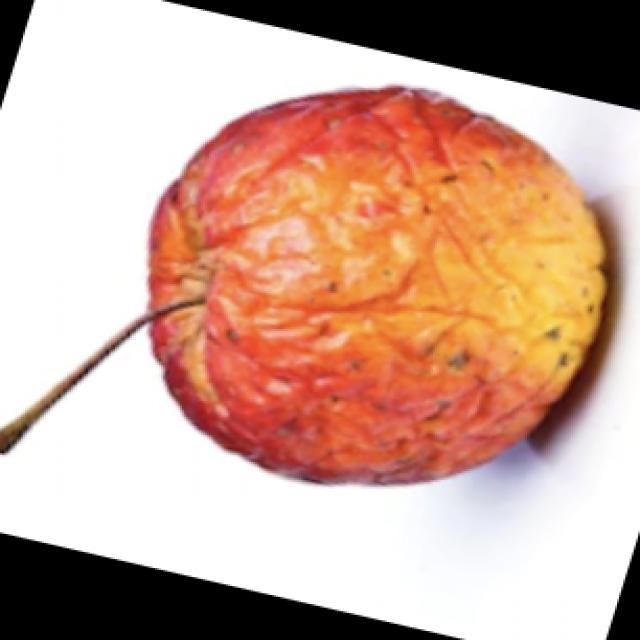Rotten: (128, 113, 617, 502)
